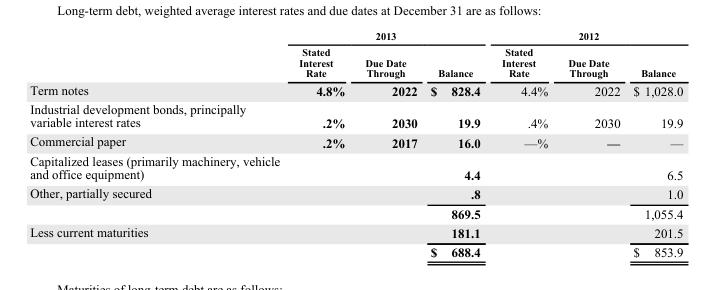table: (29, 29, 682, 259)
table column: (29, 29, 288, 259), (354, 29, 423, 259), (557, 29, 626, 259), (423, 29, 490, 259), (490, 29, 557, 259), (288, 29, 354, 259), (626, 29, 682, 259)
table column header: (29, 29, 682, 80)
table row: (29, 43, 682, 80), (29, 99, 682, 131), (29, 151, 682, 183), (29, 131, 682, 151), (29, 183, 682, 203), (29, 222, 682, 242), (29, 80, 682, 99), (29, 203, 682, 222), (29, 242, 682, 259), (29, 29, 682, 43)
table spanning cell: (288, 29, 490, 43), (490, 29, 682, 43)
